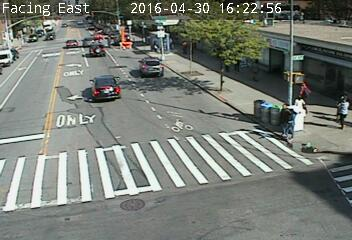neg: (216, 67, 229, 85), (231, 57, 242, 73)
pos: (275, 104, 304, 143), (272, 103, 299, 139), (329, 91, 351, 132), (297, 80, 311, 100), (178, 39, 190, 56), (293, 93, 303, 106)
